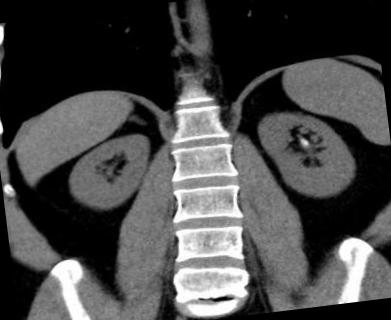Tas_Var: (298, 136, 310, 147)
